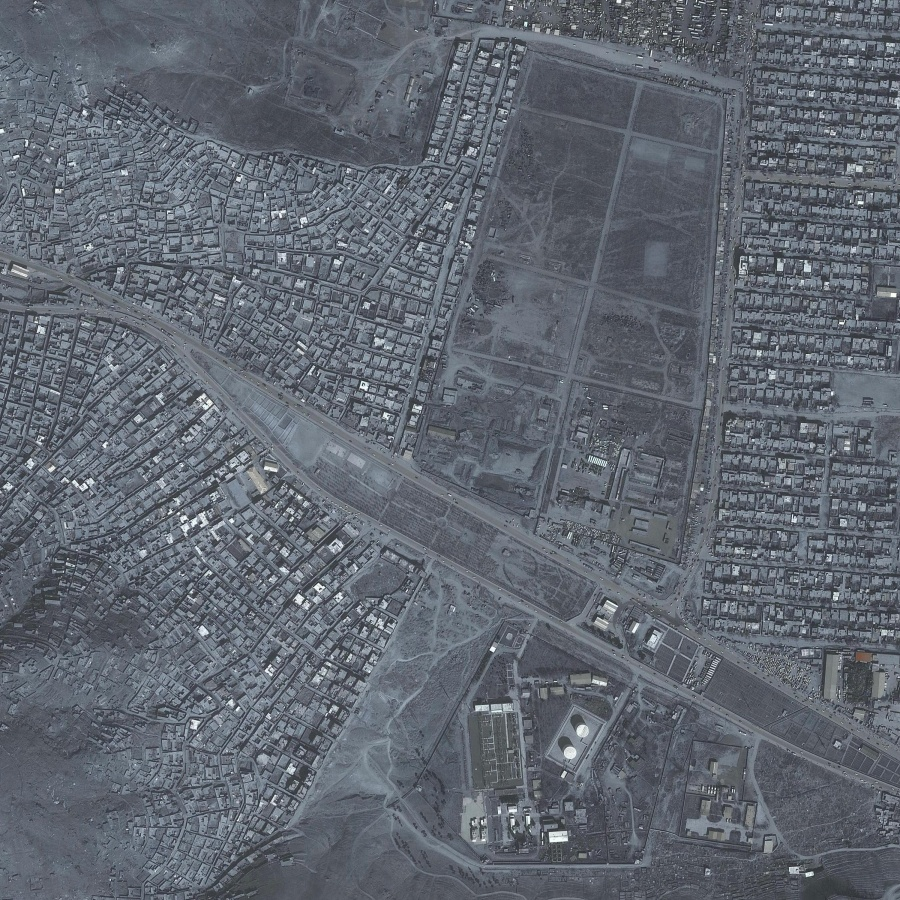PowerPlant: (470, 666, 613, 857)
